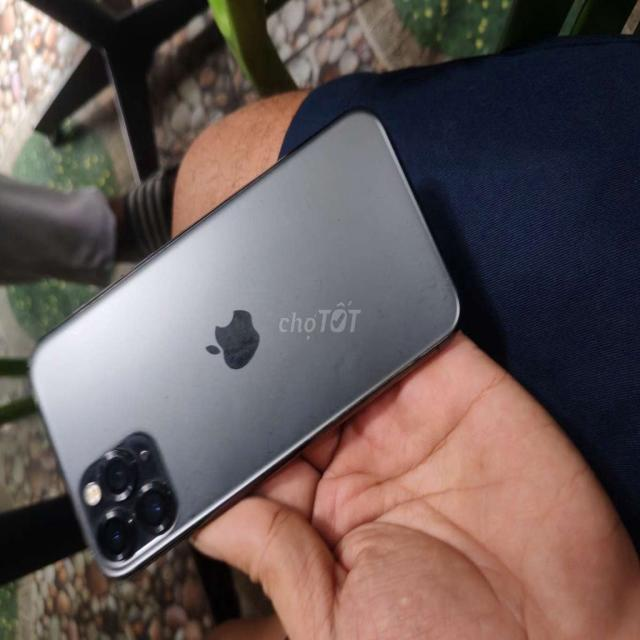gen_11: (30, 111, 459, 577)
